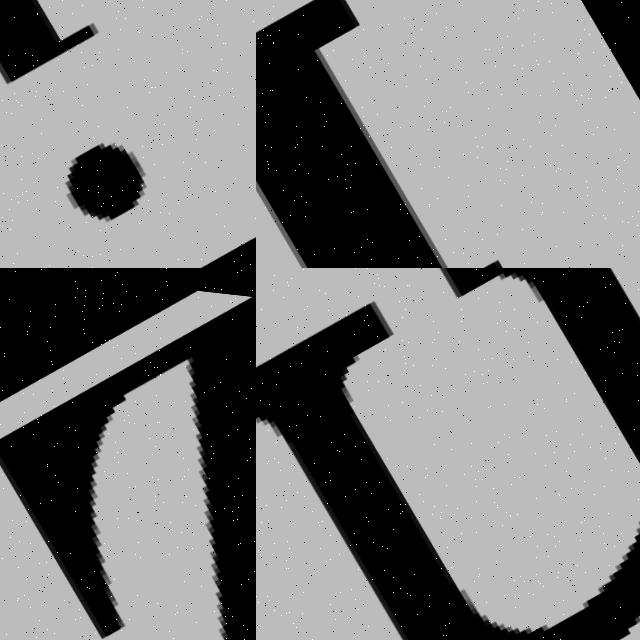I: (256, 0, 640, 268), (0, 0, 251, 254)
N: (256, 268, 640, 640)
Z: (0, 268, 256, 640)
